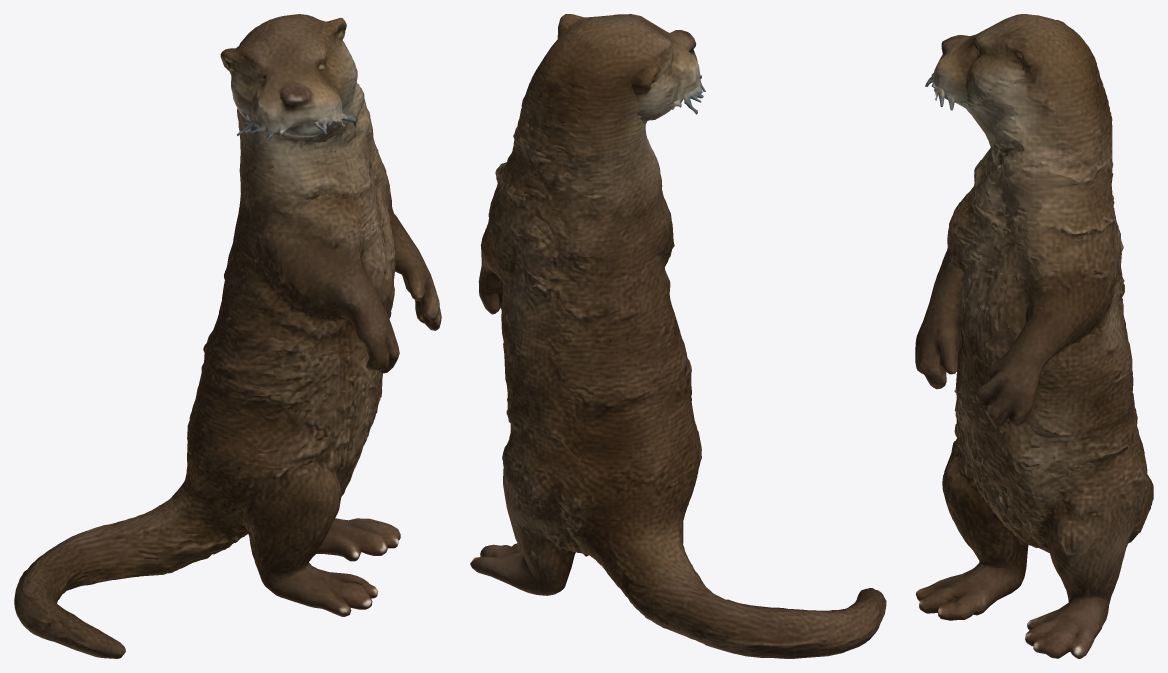
Rendered from eurasian-otter-v21-lod.glb.
3 views of the same model, side by side, from view 1: azimuth 30°, elevation 25°; view 2: azimuth 150°, elevation 25°; view 3: azimuth 270°, elevation 25° (orthographic). The views are drawn at different scales.
Parts seen in each view (by area): view 1: geometry_0; view 2: geometry_0; view 3: geometry_0.
Part boxes in pixels (x1,y1,x2,y2): geometry_0: [14, 14, 441, 658]; geometry_0: [470, 14, 886, 658]; geometry_0: [915, 14, 1153, 658].
Bounding box in the file's own units: 0.8988 × 1.21 × 0.4497.
1 material, 1 textured.
